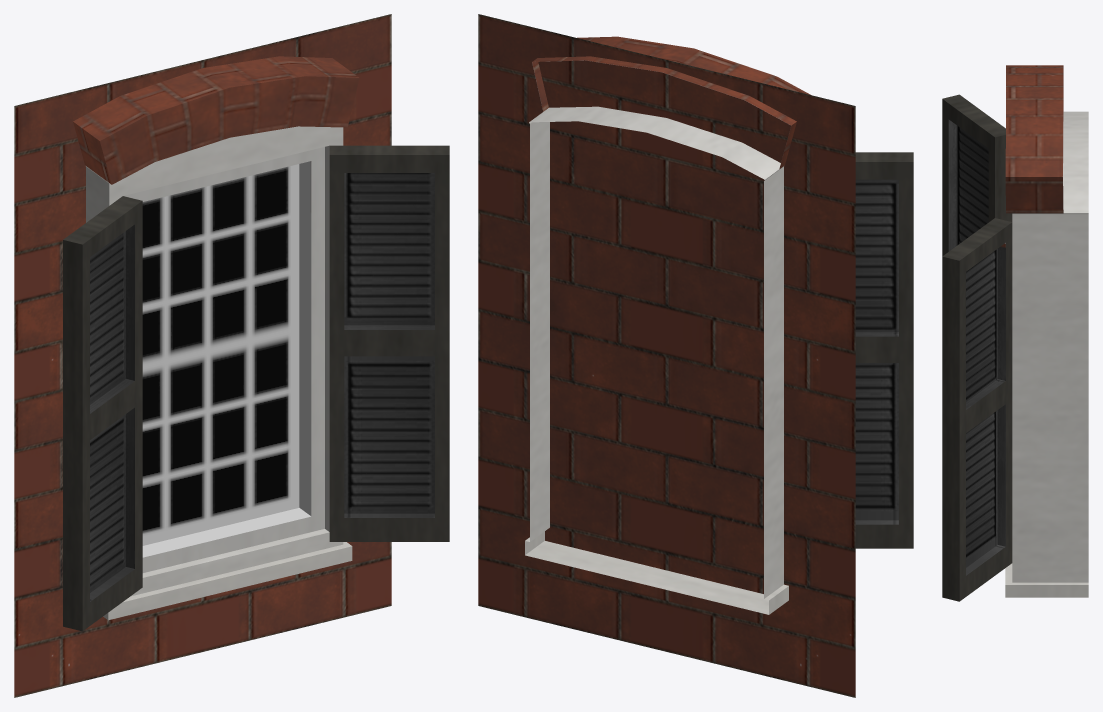
Rendered from BRICK_WINDOW_OPEN _TWO_BY_THREE.fbx.
3 renders of one model, left to right at view 1: azimuth 30°, elevation 25°; view 2: azimuth 150°, elevation 25°; view 3: azimuth 270°, elevation 25°, orthographic. The views are drawn at different scales.
Visible parts, largest first — view 1: Brick_WINDOW_OPEN_TWO_BY_THREE; view 2: Brick_WINDOW_OPEN_TWO_BY_THREE; view 3: Brick_WINDOW_OPEN_TWO_BY_THREE.
Boxes of the visible parts, x1,y1,x2,y2 form: Brick_WINDOW_OPEN_TWO_BY_THREE: (14, 14, 449, 697); Brick_WINDOW_OPEN_TWO_BY_THREE: (478, 14, 913, 697); Brick_WINDOW_OPEN_TWO_BY_THREE: (942, 65, 1088, 601).
Size of the model in its own units: 2.05 by 3 by 0.7634.
